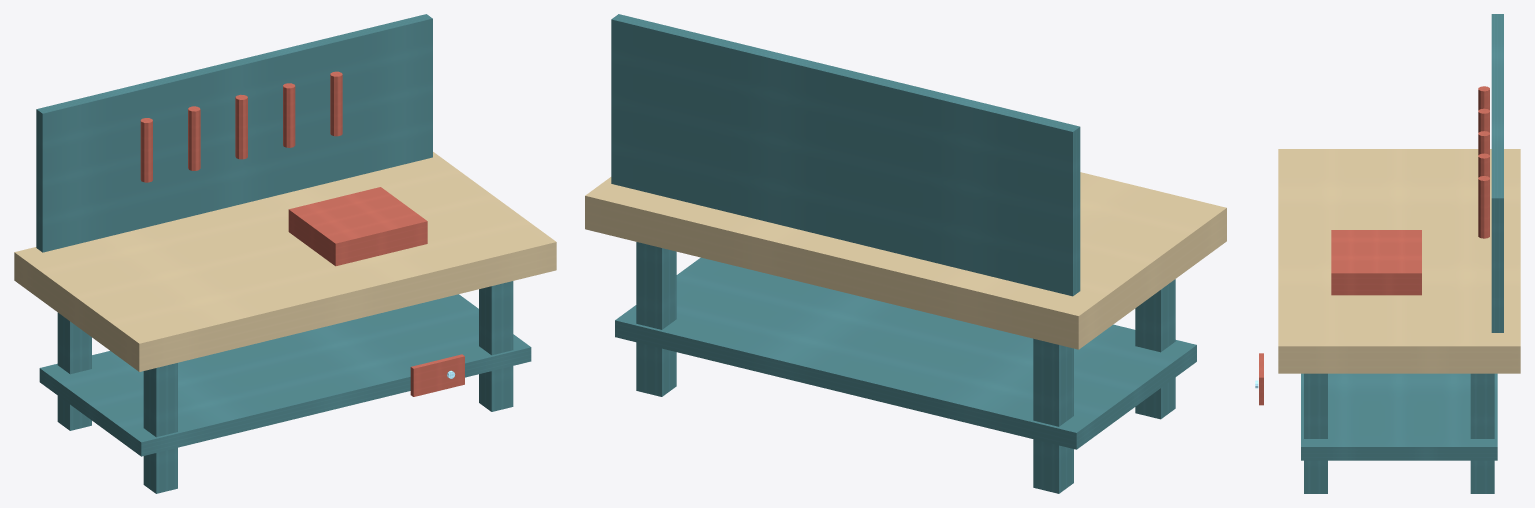
Rendered from atlas100-s072-a06.lod1.glb.
The picture shows the model from 3 angles, left to right: view 1: azimuth 30°, elevation 25°; view 2: azimuth 150°, elevation 25°; view 3: azimuth 270°, elevation 25°; orthographic projection. The views are drawn at different scales.
Parts seen in each view (by area): view 1: atlas100-s072-a06:part-004, atlas100-s072-a06:part-006, atlas100-s072-a06:part-005, atlas100-s072-a06:part-012, atlas100-s072-a06:part-003, atlas100-s072-a06:part-001, atlas100-s072-a06:part-000, atlas100-s072-a06:part-013, atlas100-s072-a06:part-011, atlas100-s072-a06:part-010, atlas100-s072-a06:part-008, atlas100-s072-a06:part-009 (+1 smaller); view 2: atlas100-s072-a06:part-006, atlas100-s072-a06:part-005, atlas100-s072-a06:part-004, atlas100-s072-a06:part-000, atlas100-s072-a06:part-002, atlas100-s072-a06:part-001; view 3: atlas100-s072-a06:part-004, atlas100-s072-a06:part-005, atlas100-s072-a06:part-012, atlas100-s072-a06:part-006, atlas100-s072-a06:part-002, atlas100-s072-a06:part-003, atlas100-s072-a06:part-011.
Boxes of the visible parts, <box> form: atlas100-s072-a06:part-004: <box>14,152,556,371</box>; atlas100-s072-a06:part-006: <box>36,14,432,252</box>; atlas100-s072-a06:part-005: <box>39,294,531,456</box>; atlas100-s072-a06:part-012: <box>288,187,427,266</box>; atlas100-s072-a06:part-003: <box>479,281,513,411</box>; atlas100-s072-a06:part-001: <box>143,363,177,493</box>; atlas100-s072-a06:part-000: <box>57,312,91,430</box>; atlas100-s072-a06:part-013: <box>410,354,464,396</box>; atlas100-s072-a06:part-011: <box>330,71,342,136</box>; atlas100-s072-a06:part-010: <box>283,83,295,147</box>; atlas100-s072-a06:part-008: <box>188,106,200,170</box>; atlas100-s072-a06:part-009: <box>235,94,247,159</box>; atlas100-s072-a06:part-006: <box>611,14,1080,296</box>; atlas100-s072-a06:part-005: <box>615,257,1196,449</box>; atlas100-s072-a06:part-004: <box>585,172,1226,349</box>; atlas100-s072-a06:part-000: <box>1033,338,1073,493</box>; atlas100-s072-a06:part-002: <box>636,242,676,396</box>; atlas100-s072-a06:part-001: <box>1135,279,1175,419</box>; atlas100-s072-a06:part-004: <box>1278,149,1520,373</box>; atlas100-s072-a06:part-005: <box>1301,373,1497,460</box>; atlas100-s072-a06:part-012: <box>1331,230,1421,295</box>; atlas100-s072-a06:part-006: <box>1491,14,1503,332</box>; atlas100-s072-a06:part-002: <box>1470,373,1494,493</box>; atlas100-s072-a06:part-003: <box>1304,373,1327,493</box>; atlas100-s072-a06:part-011: <box>1478,176,1489,238</box>.
Bounding box in the file's own units: 3.08 × 2.21 × 1.75.
Materials: 4 (4 with a texture image).
